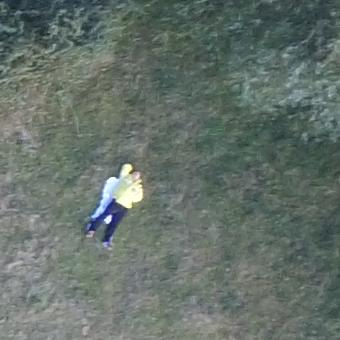human: (85, 168, 145, 248)
